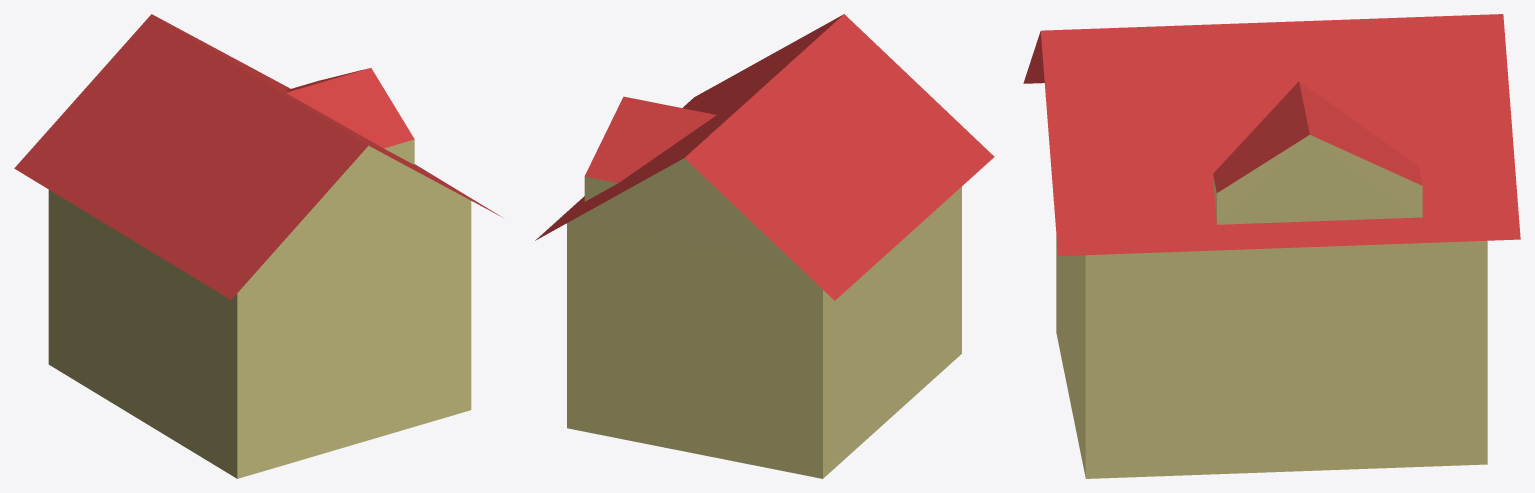
3 views of the same model, side by side, from view 1: azimuth 30°, elevation 25°; view 2: azimuth 150°, elevation 25°; view 3: azimuth 270°, elevation 25° (orthographic). The views are drawn at different scales.
Size of the model in its own units: 11.01 by 12.24 by 10.22.
